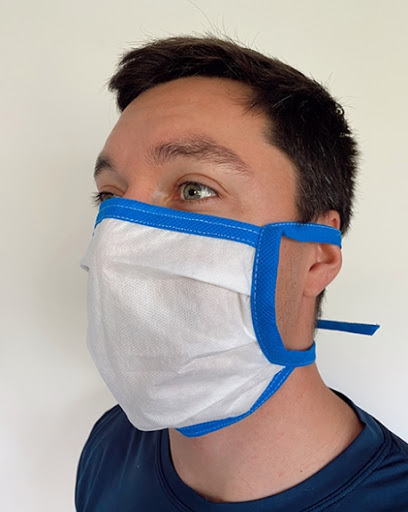barbijo: (76, 188, 331, 433)
